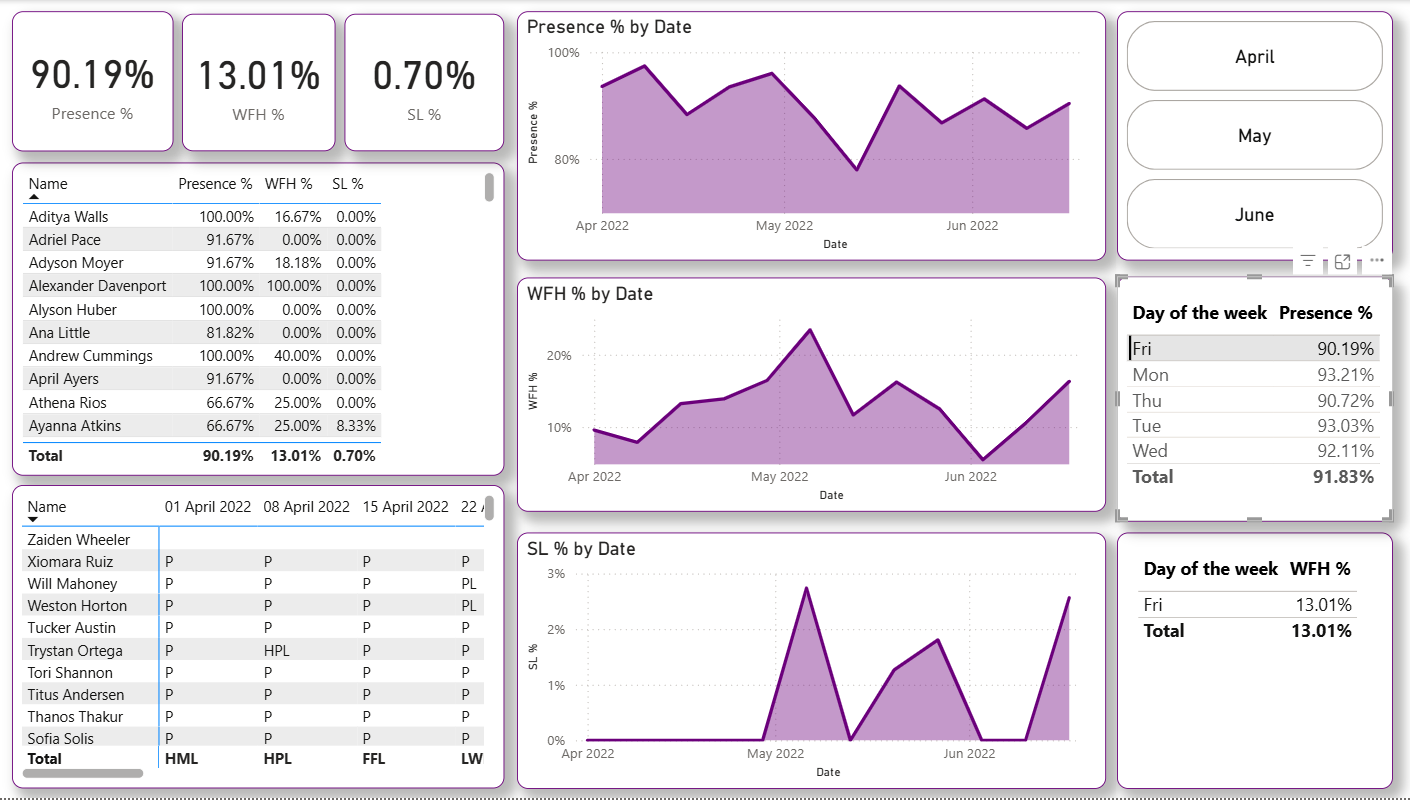

The page's visual inventory and layout, read from the dashboard file:
{"tool":"powerbi","page":{"name":"Presence Insights1","canvas":[1280,720],"ordinal":0},"visuals":[{"type":"tableEx","fields":{"Values":["Final Data.Name","Measure Table.Presence %","Measure Table.WFH %","Measure Table.SL %"]},"box":[13.7,146.8,444.1,282.4],"z":0},{"type":"pivotTable","fields":{"Rows":["Final Data.Name"],"Columns":["Final Data.Date"],"Values":["Min(Final Data.Attendence)"]},"box":[13.7,437.9,444.1,273.7],"z":1000},{"type":"card","fields":{"Values":["Measure Table.Presence %"]},"box":[13.5,10.1,145.4,126.2],"z":2000},{"type":"card","fields":{"Values":["Measure Table.WFH %"]},"box":[166.7,12.4,138.1,124.4],"z":3000},{"type":"card","fields":{"Values":["Measure Table.SL %"]},"box":[313.3,12.4,144.3,124],"z":4000},{"type":"areaChart","fields":{"Y":["Measure Table.Presence %"],"Category":["Final Data.Date"]},"box":[469,10,531.2,225.2],"z":5000},{"type":"areaChart","fields":{"Y":["Measure Table.WFH %"],"Category":["Final Data.Date"]},"box":[469,250,531.2,211.5],"z":6000},{"type":"areaChart","fields":{"Category":["Final Data.Date"],"Y":["Measure Table.SL %"]},"box":[469,480.2,531.2,231.4],"z":7000},{"type":"tableEx","fields":{"Values":["Final Data.Day of the week","Measure Table.Presence %"]},"box":[1010.1,248.8,248.8,221.4],"z":8000},{"type":"tableEx","fields":{"Values":["Final Data.Day of the week","Measure Table.WFH %"]},"box":[1010.1,480.2,248.8,231.4],"z":9000},{"type":"advancedSlicerVisual","fields":{"Values":["Final Data.Month 2"]},"box":[1010,10,249,225],"z":10000}]}

Visuals, with their boxes in screenshot pixels (x1, y1, x2, y2), scaled from the page's 1280x720 canvas onto the 1410x803 screenshot:
tableEx - Final Data.Name x Measure Table.Presence %: left=15, top=164, right=504, bottom=479
pivotTable - Final Data.Name x Final Data.Date: left=15, top=488, right=504, bottom=794
card - Measure Table.Presence %: left=15, top=11, right=175, bottom=152
card - Measure Table.WFH %: left=184, top=14, right=336, bottom=153
card - Measure Table.SL %: left=345, top=14, right=504, bottom=152
areaChart - Measure Table.Presence % x Final Data.Date: left=517, top=11, right=1102, bottom=262
areaChart - Measure Table.WFH % x Final Data.Date: left=517, top=279, right=1102, bottom=515
areaChart - Final Data.Date x Measure Table.SL %: left=517, top=536, right=1102, bottom=794
tableEx - Final Data.Day of the week x Measure Table.Presence %: left=1113, top=277, right=1387, bottom=524
tableEx - Final Data.Day of the week x Measure Table.WFH %: left=1113, top=536, right=1387, bottom=794
advancedSlicerVisual - Final Data.Month 2: left=1113, top=11, right=1387, bottom=262
